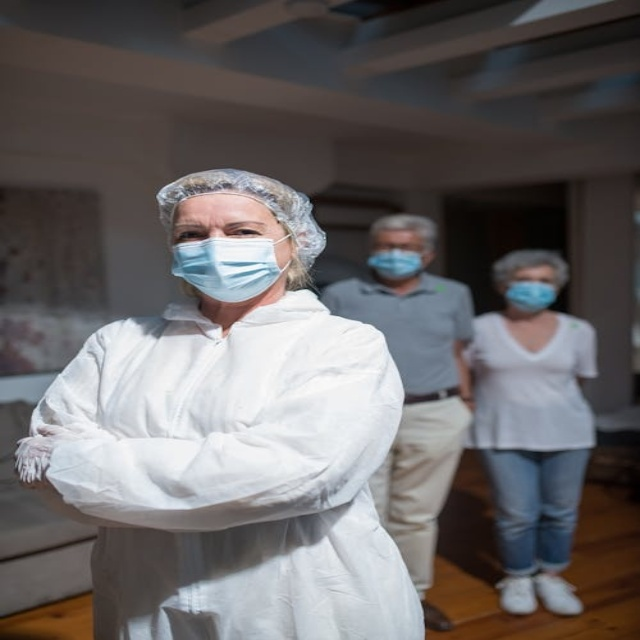Guantes: (13, 427, 66, 485)
Mascara: (168, 233, 289, 302), (503, 281, 558, 311), (368, 250, 424, 279)
Sin_gafas: (170, 216, 278, 242)
